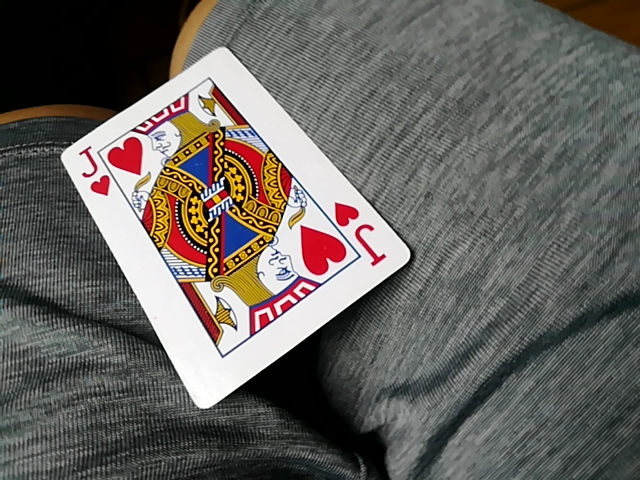hx j: (60, 42, 408, 412)
